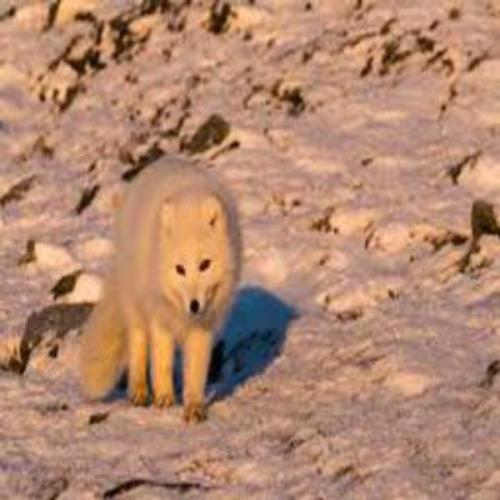arctic_fox-endangered: (82, 154, 245, 424)
